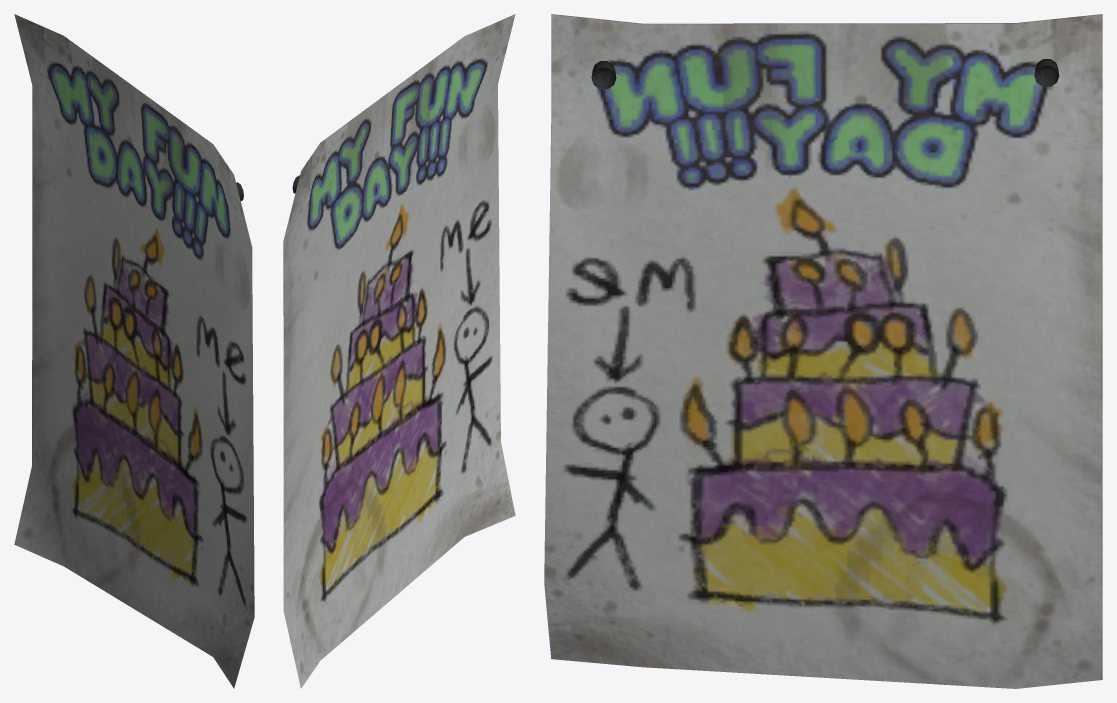
The model's file is drawingfunday2_reference_001.fbx.
3 renders of one model, left to right at view 1: azimuth 30°, elevation 25°; view 2: azimuth 150°, elevation 25°; view 3: azimuth 270°, elevation 25°, orthographic. The views are drawn at different scales.
Visible parts, largest first — view 1: drawingfunday2_reference.001; view 2: drawingfunday2_reference.001; view 3: drawingfunday2_reference.001.
Part boxes in pixels (x1,y1,x2,y2): drawingfunday2_reference.001: [14, 14, 254, 688]; drawingfunday2_reference.001: [283, 14, 515, 688]; drawingfunday2_reference.001: [544, 14, 1102, 688].
Bounding box in the file's own units: 1.55 × 30.3 × 23.04.
